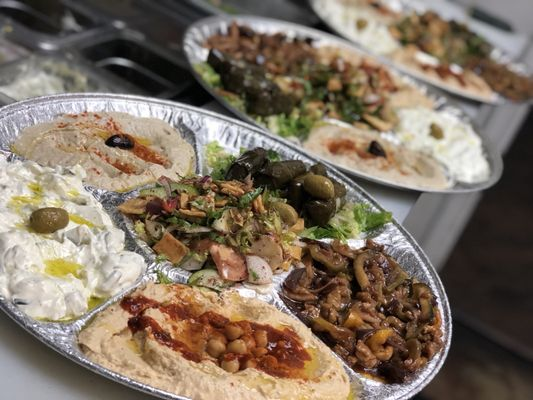curry: (0, 1, 531, 400)
sandwich: (7, 127, 452, 398), (182, 14, 489, 191), (76, 280, 354, 400), (304, 0, 533, 105)
